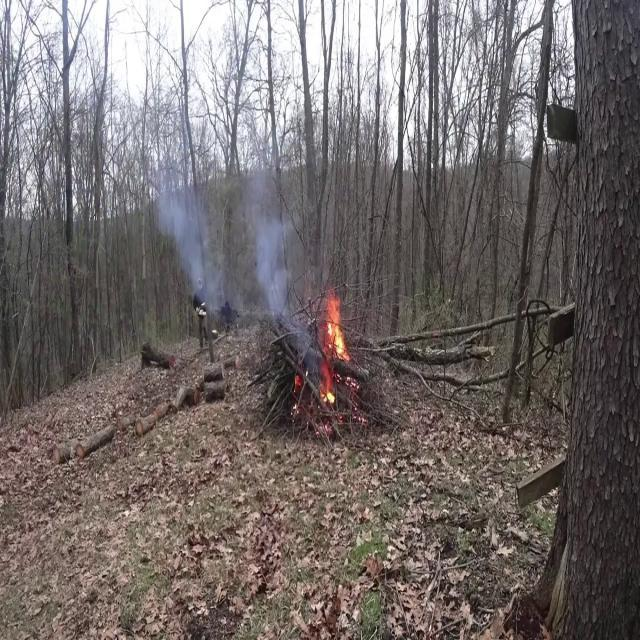Fire: (316, 290, 352, 408)
Smoke: (153, 135, 315, 349), (154, 165, 218, 317)
